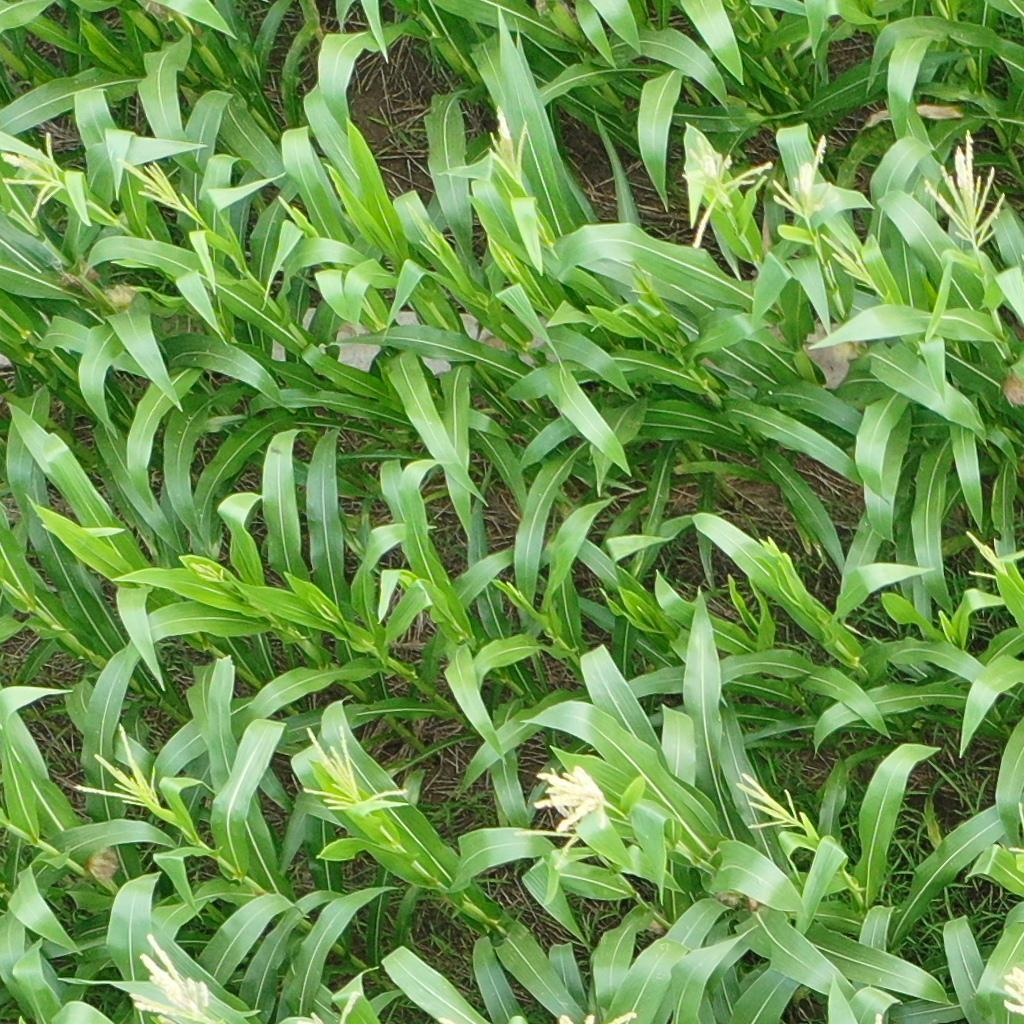Tassel: (293, 716, 409, 811), (922, 128, 1006, 252), (72, 723, 166, 814), (127, 933, 212, 1020), (683, 137, 773, 209), (532, 765, 628, 832), (1, 132, 70, 220), (768, 135, 834, 220), (117, 158, 189, 216), (820, 233, 888, 293), (734, 772, 802, 831), (485, 107, 531, 184), (962, 528, 1024, 581), (514, 828, 582, 871), (297, 990, 359, 1024), (557, 1009, 640, 1024), (1002, 966, 1024, 1015), (189, 559, 227, 584), (758, 536, 782, 557)
